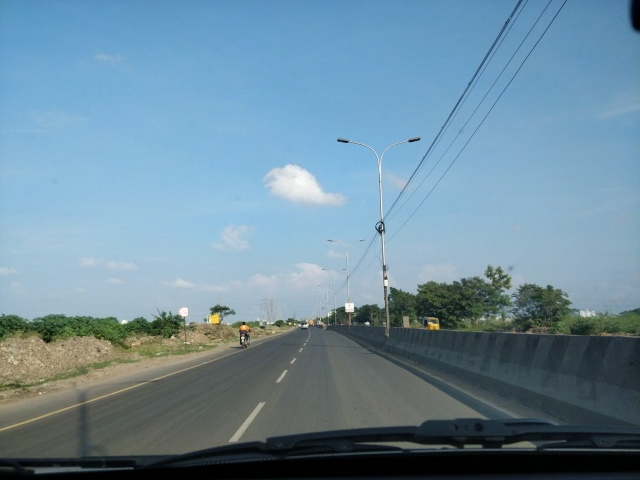auto: (421, 313, 443, 334)
car: (298, 321, 310, 331)
motorbike: (236, 318, 252, 352)
